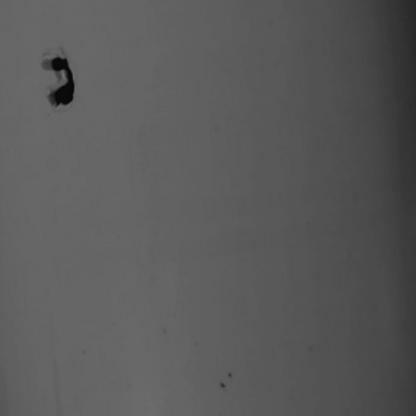kongdong: (32, 47, 83, 111)
